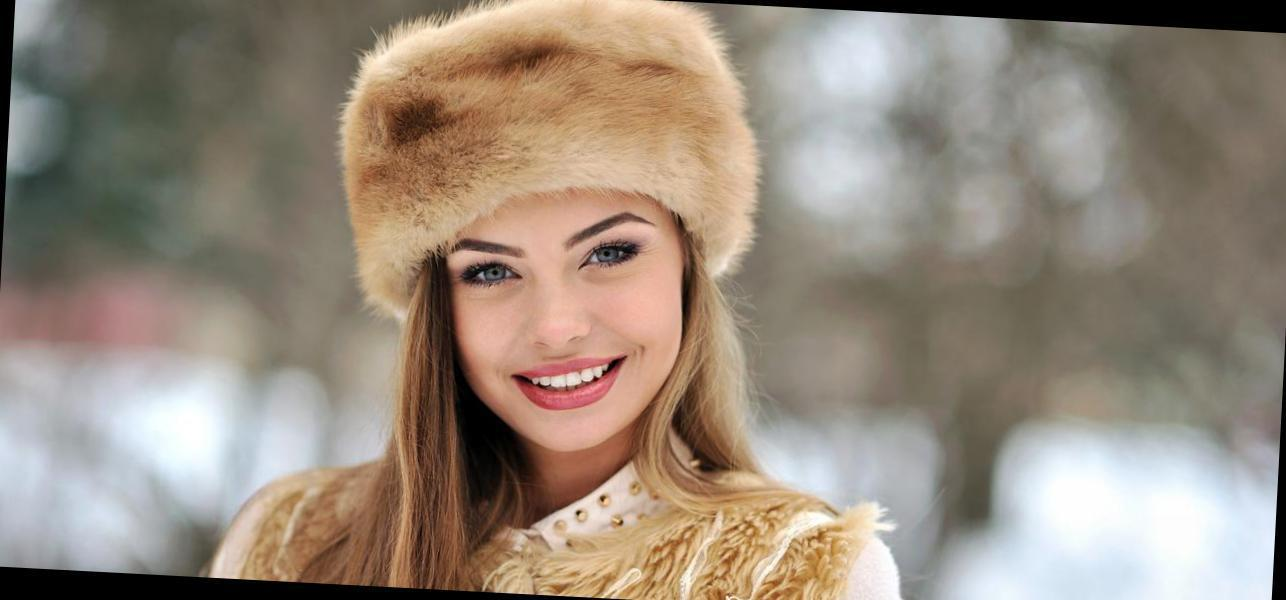Sober: (451, 202, 684, 416)
